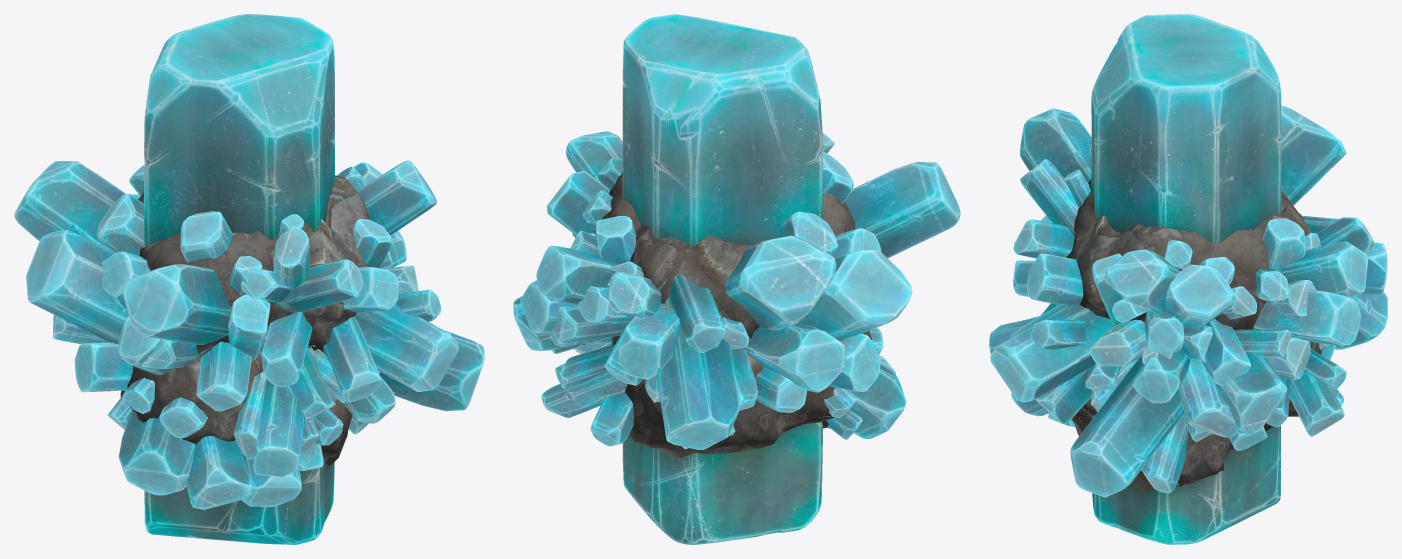
3 renders of one model, left to right at view 1: azimuth 30°, elevation 25°; view 2: azimuth 150°, elevation 25°; view 3: azimuth 270°, elevation 25°, orthographic.
Parts seen in each view (by area): view 1: SM_Vault_Gem_01_LOD0; view 2: SM_Vault_Gem_01_LOD0; view 3: SM_Vault_Gem_01_LOD0.
Part boxes in pixels (x1,y1,x2,y2): SM_Vault_Gem_01_LOD0: (14,14,484,544); SM_Vault_Gem_01_LOD0: (513,14,960,544); SM_Vault_Gem_01_LOD0: (989,14,1387,544).
Size of the model in its own units: 3.05 by 3.4 by 2.68.
3 materials, 3 textured.
